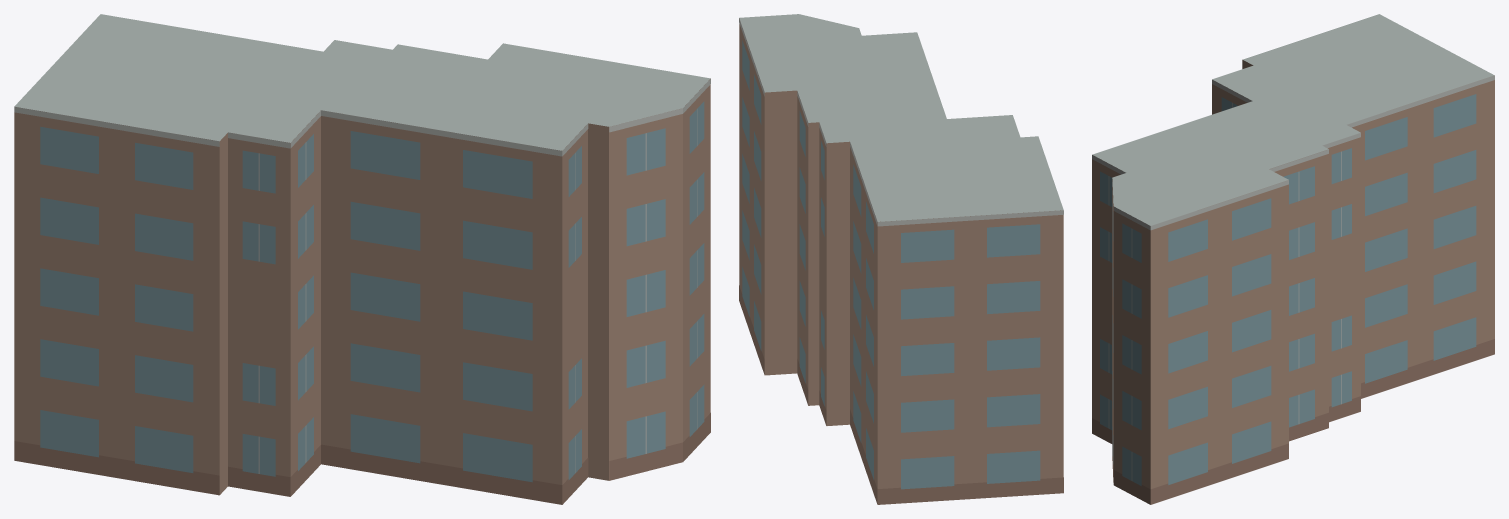
The model's file is survey-upis-32912836.glb.
The picture shows the model from 3 angles, left to right: view 1: azimuth 30°, elevation 25°; view 2: azimuth 150°, elevation 25°; view 3: azimuth 270°, elevation 25°; orthographic projection. The views are drawn at different scales.
Parts seen in each view (by area): view 1: survey-upis-32912836.tmp; view 2: survey-upis-32912836.tmp; view 3: survey-upis-32912836.tmp.
Part boxes in pixels (left/top/right/bottom): survey-upis-32912836.tmp: left=14, top=14, right=710, bottom=504; survey-upis-32912836.tmp: left=739, top=14, right=1063, bottom=504; survey-upis-32912836.tmp: left=1092, top=14, right=1494, bottom=504.
Size of the model in its own units: 24.7 by 15.15 by 19.84.
